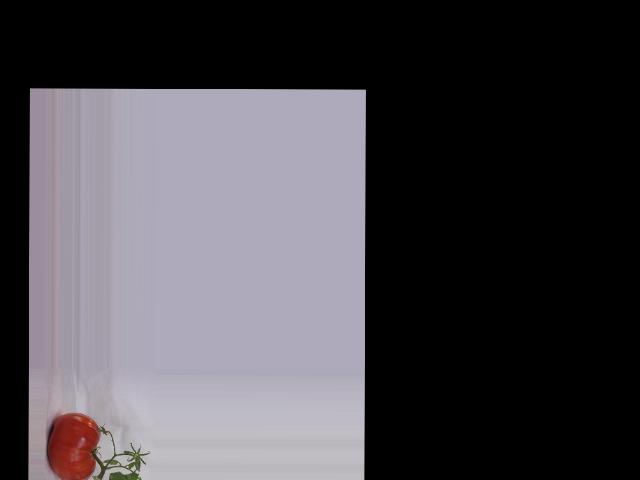tomato: (46, 412, 100, 480)
